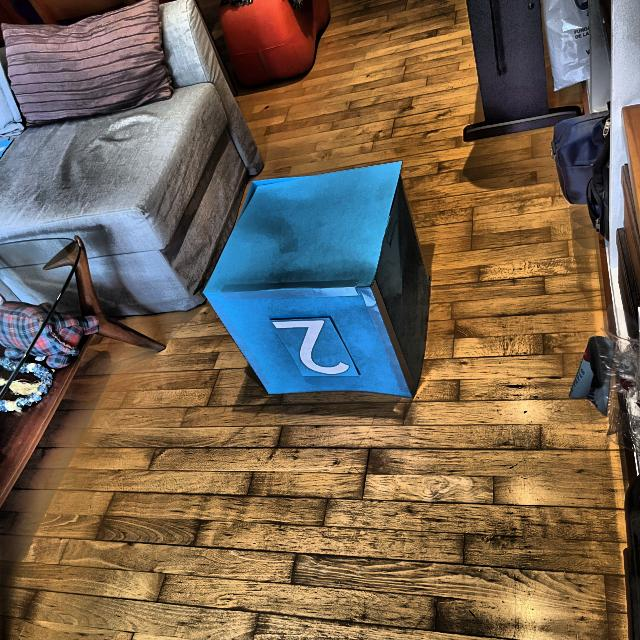blue box: (198, 156, 434, 402)
two: (266, 316, 353, 377)
